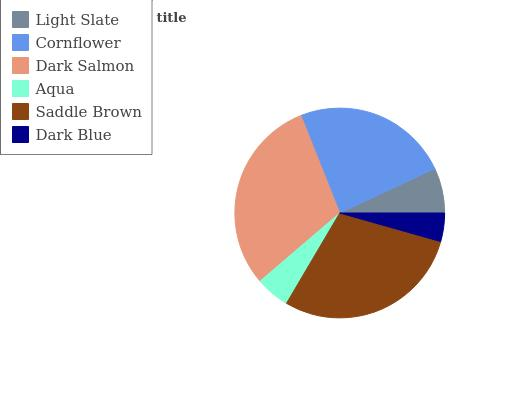legend: (0, 0, 152, 155)
sector: (233, 114, 340, 281), (287, 213, 442, 319), (303, 107, 434, 213), (261, 212, 340, 302), (338, 167, 446, 212), (339, 210, 445, 243)
